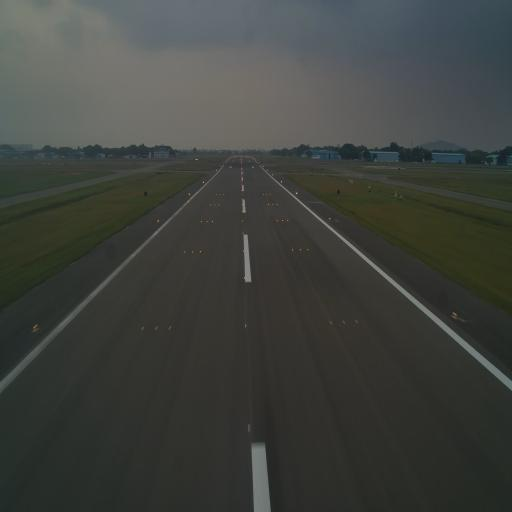on: (246, 420, 252, 436), (32, 321, 39, 333), (451, 310, 459, 320), (341, 318, 346, 326), (328, 317, 332, 326), (354, 317, 358, 326), (154, 324, 158, 332), (244, 321, 248, 329), (141, 325, 145, 332), (168, 325, 172, 331), (298, 247, 302, 253), (306, 246, 310, 252), (198, 250, 202, 255), (291, 247, 294, 253), (244, 274, 246, 282), (183, 250, 186, 254), (191, 249, 193, 255), (243, 248, 245, 254)
